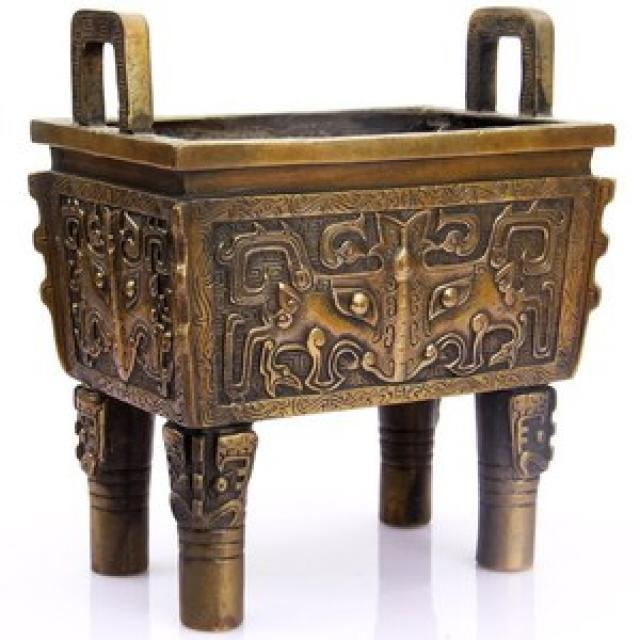recyclable: (26, 7, 616, 624)
